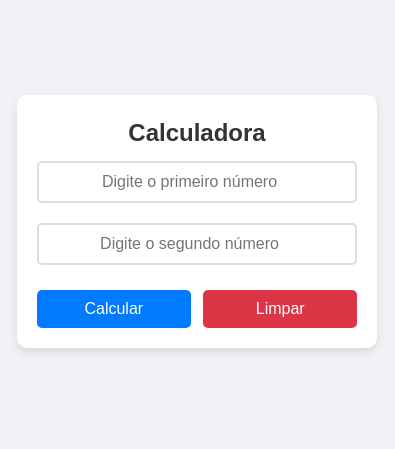
Test case: Calculator › should perform calculations correctly
In the number field with placeholder "Digite o primeiro número": (197, 182) [37, 160, 357, 202], type "10"
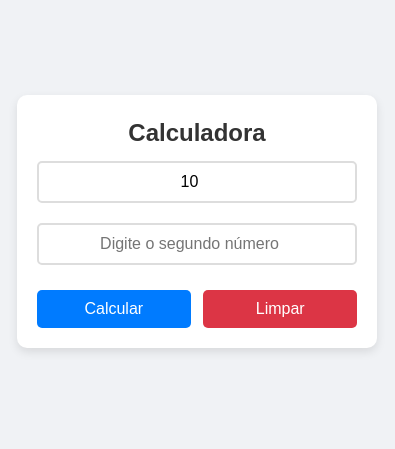
In the number field with placeholder "Digite o segundo número": (197, 244) [37, 222, 357, 264], type "2"
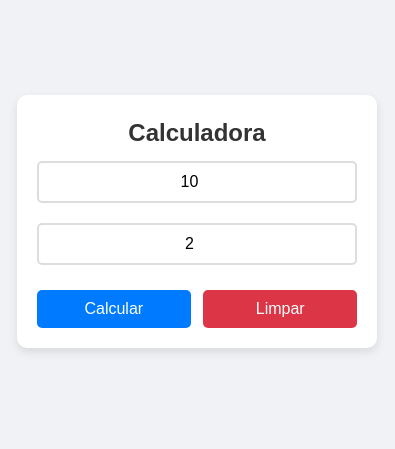
Click the button "Calcular": (114, 308) [37, 290, 191, 328]
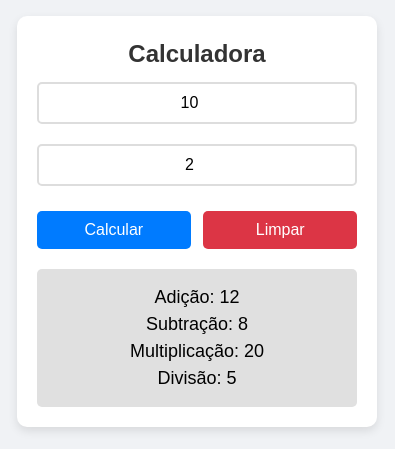
Check: the text "Adição: 12" is shown, box [154, 286, 240, 306]
Check: the text "Subtração: 8" is shown, box [146, 314, 248, 334]
Check: the text "Multiplicação: 20" is shown, box [130, 340, 264, 360]
